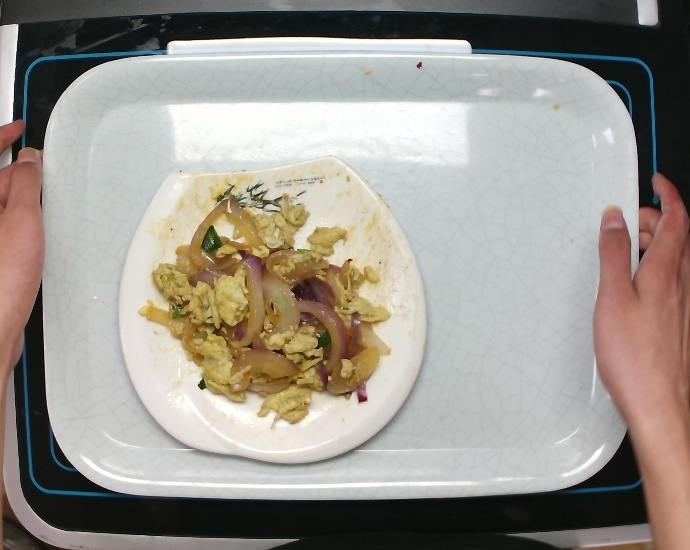JYsf-Mian_Pan: (109, 146, 433, 470)
